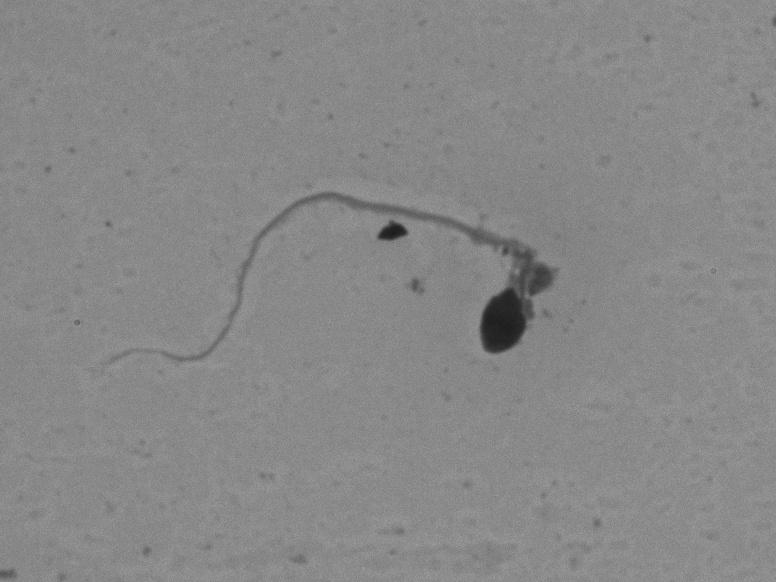Abnormal: (93, 171, 574, 421)
